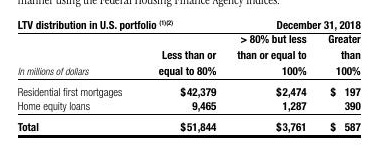table: (0, 0, 378, 152)
